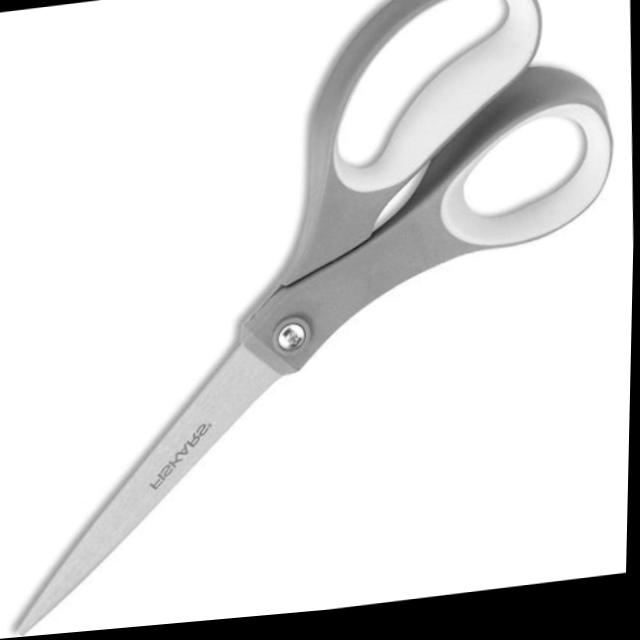scissor: (0, 0, 634, 640)
